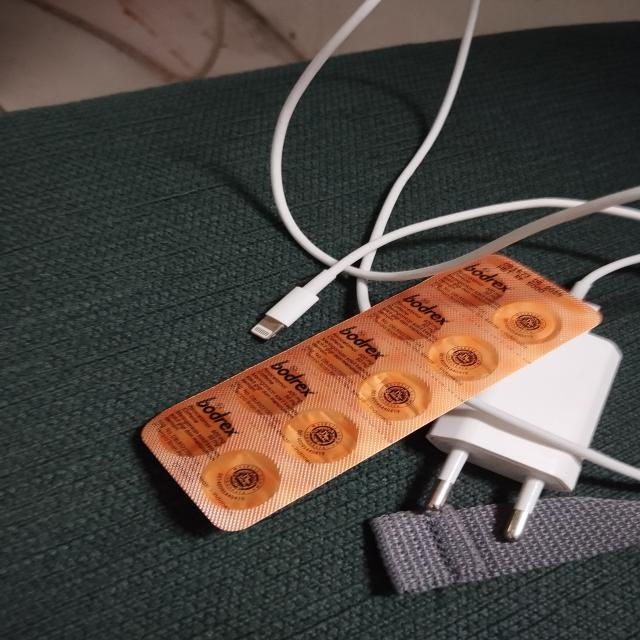B3: (142, 253, 601, 528)
